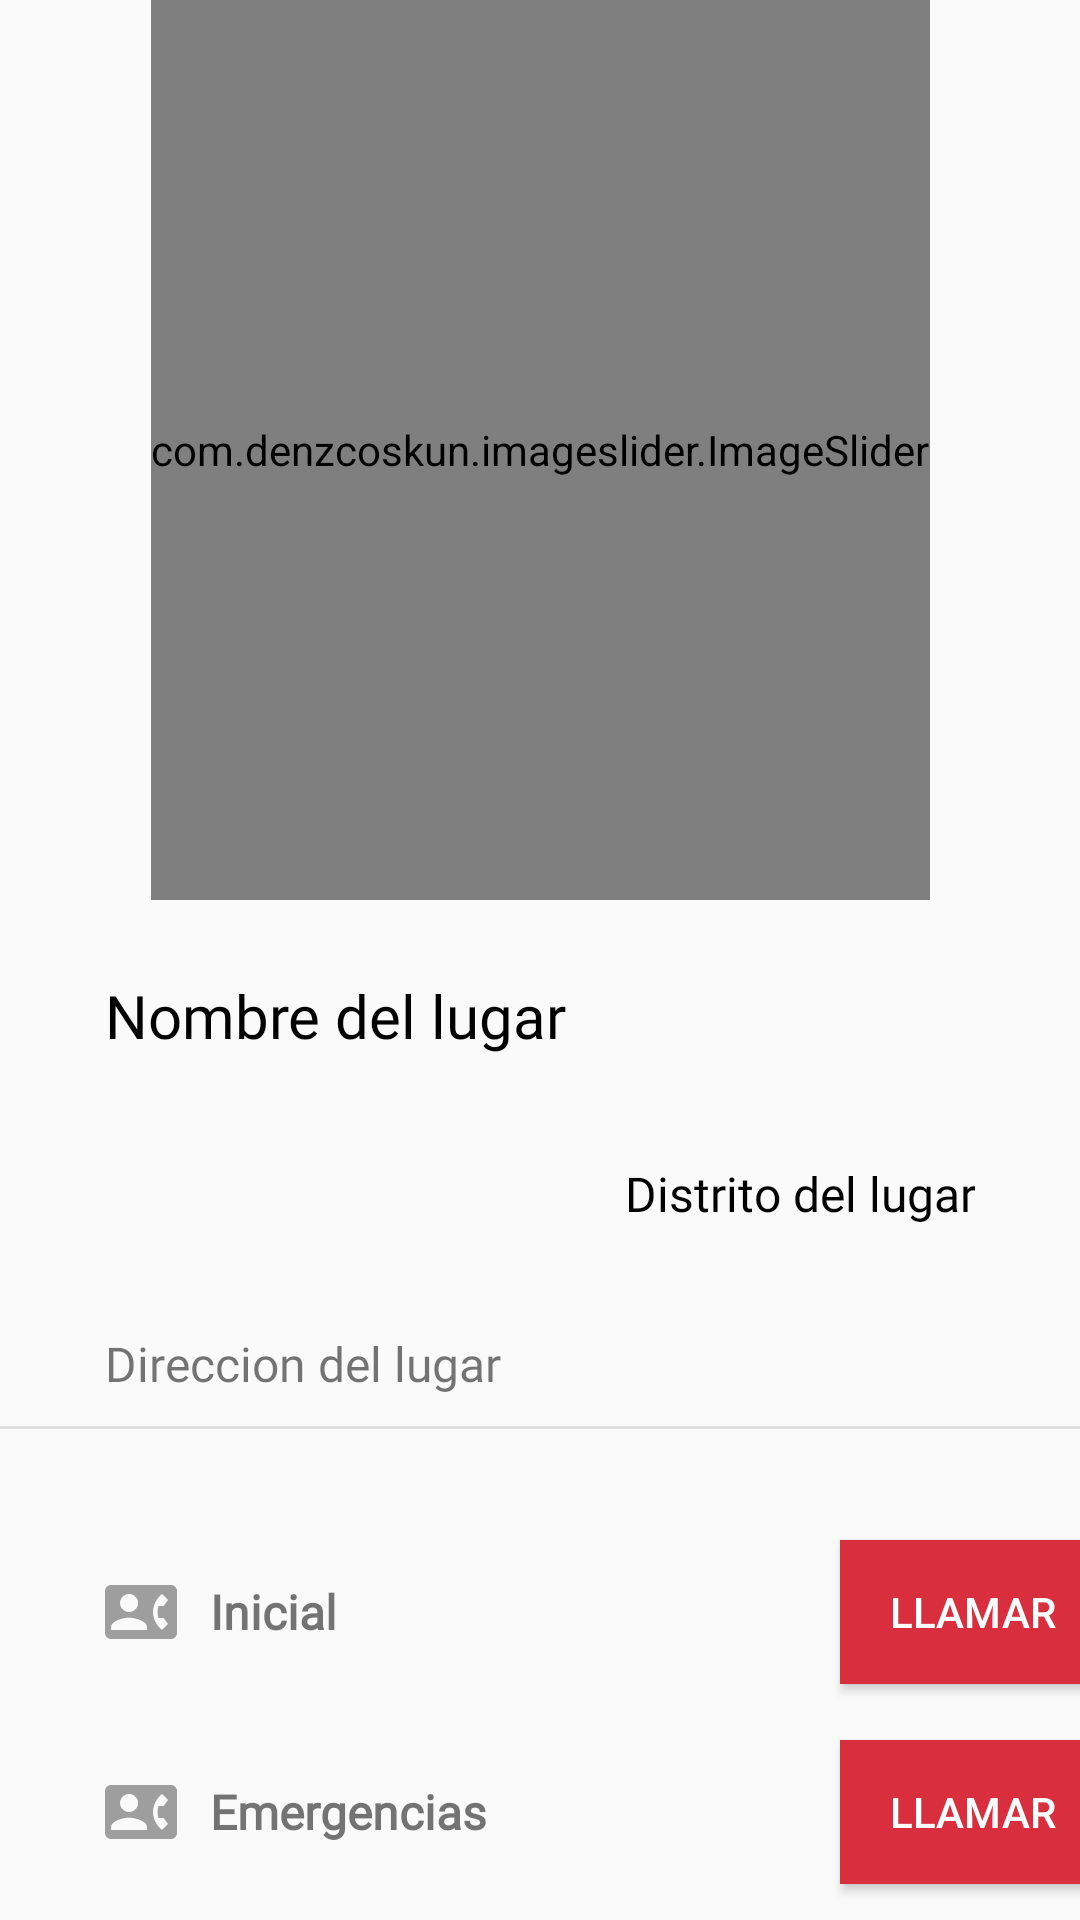

Screen size 1080 × 1920. Icon name, then its center in pixels as (x,y):
contact phone: (141,1612), (141,1812)
